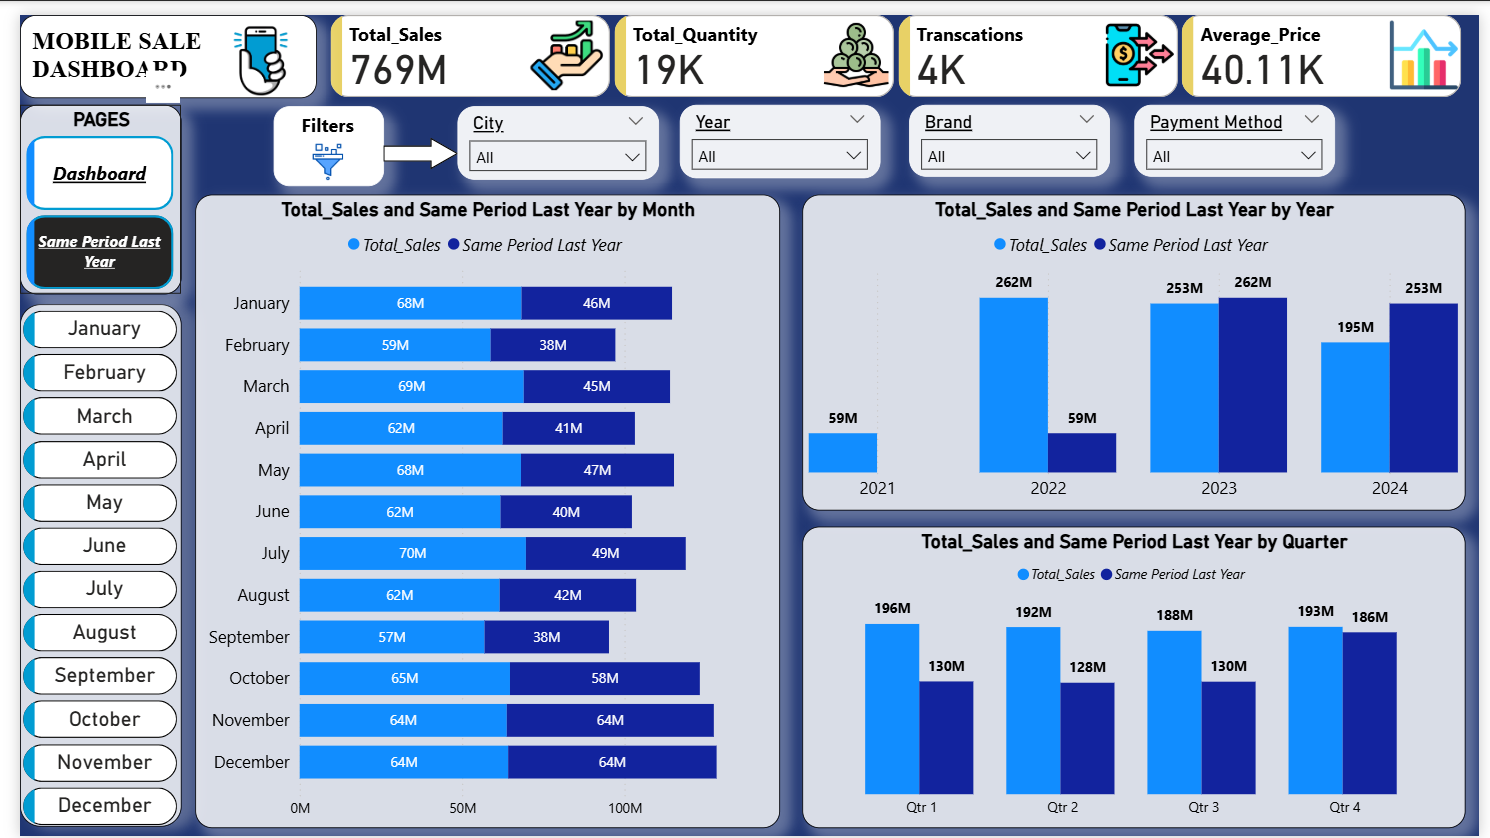

This screenshot's page, from the dashboard's own definition file:
{"tool":"powerbi","page":{"name":"Same Period Last Year","canvas":[1280,720],"ordinal":1},"visuals":[{"type":"shape","box":[222,79.4,97.1,70],"z":0},{"type":"advancedSlicerVisual","fields":{"Values":["Custom_Calendar.Date.Variation.Date Hierarchy.Month"]},"box":[0,254.3,141.4,458.6],"z":1000},{"type":"cardVisual","fields":{"Data":["Sales_Data.Total_Sales","Sales_Data.Total_Quantity","Sales_Data.Transcations","Sales_Data.Average_Price"]},"box":[272.9,0,994.3,72.9],"z":2000},{"type":"textbox","box":[0,0,260.7,72.9],"z":3000},{"type":"pageNavigator","title":"PAGES","box":[0,79.4,141.6,166.1],"z":4000},{"type":"image","box":[162.6,4.2,98.1,72.9],"z":5000},{"type":"clusteredColumnChart","fields":{"Category":["Custom_Calendar.Date.Variation.Date Hierarchy.Year","Custom_Calendar.Date.Variation.Date Hierarchy.Quarter","Custom_Calendar.Date.Variation.Date Hierarchy.Month"],"Y":["Sales_Data.Total_Sales","Sales_Data.Same Period Last Year"]},"box":[685.7,157.1,581.4,277.1],"z":6000},{"type":"clusteredColumnChart","fields":{"Category":["Custom_Calendar.Date.Variation.Date Hierarchy.Year","Custom_Calendar.Date.Variation.Date Hierarchy.Quarter","Custom_Calendar.Date.Variation.Date Hierarchy.Month"],"Y":["Sales_Data.Total_Sales","Sales_Data.Same Period Last Year"]},"box":[685.7,448.6,581.4,264.3],"z":7000},{"type":"barChart","fields":{"Category":["Custom_Calendar.Date.Variation.Date Hierarchy.Year","Custom_Calendar.Date.Variation.Date Hierarchy.Quarter","Custom_Calendar.Date.Variation.Date Hierarchy.Month"],"Y":["Sales_Data.Total_Sales","Sales_Data.Same Period Last Year"]},"box":[154.3,157.1,512.9,555.7],"z":8000},{"type":"slicer","fields":{"Values":["Sales_Data.Payment Method"]},"box":[976.9,79.4,175.8,63.5],"z":9000},{"type":"slicer","fields":{"Values":["Custom_Calendar.Date.Variation.Date Hierarchy.Year"]},"box":[578.8,79.4,175.8,64.7],"z":10000},{"type":"slicer","fields":{"Values":["Sales_Data.Brand"]},"box":[780.3,79.4,175.8,63.5],"z":11000},{"type":"image","box":[243.4,108,52.9,42.9],"z":12000},{"type":"shape","box":[318.2,107.9,65.9,28],"z":13000},{"type":"textbox","box":[226.3,79.4,87.1,35.7],"z":14000},{"type":"slicer","fields":{"Values":["Sales_Data.City"]},"box":[384,79.9,176.6,64.5],"z":15000}]}

Visuals, with their boxes in screenshot pixels (x1, y1, x2, y2), scaled from the page's 1280x720 canvas onto the 1490x838 screenshot:
shape: select_region(258, 92, 371, 174)
advancedSlicerVisual - Custom_Calendar.Date.Variation.Date Hierarchy.Month: select_region(0, 296, 165, 830)
cardVisual - Sales_Data.Total_Sales x Sales_Data.Total_Quantity: select_region(318, 0, 1475, 85)
textbox: select_region(0, 0, 303, 85)
"PAGES" pageNavigator: select_region(0, 92, 165, 286)
image: select_region(189, 5, 303, 90)
clusteredColumnChart - Custom_Calendar.Date.Variation.Date Hierarchy.Year x Custom_Calendar.Date.Variation.Date Hierarchy.Quarter: select_region(798, 183, 1475, 505)
clusteredColumnChart - Custom_Calendar.Date.Variation.Date Hierarchy.Year x Custom_Calendar.Date.Variation.Date Hierarchy.Quarter: select_region(798, 522, 1475, 830)
barChart - Custom_Calendar.Date.Variation.Date Hierarchy.Year x Custom_Calendar.Date.Variation.Date Hierarchy.Quarter: select_region(180, 183, 777, 830)
slicer - Sales_Data.Payment Method: select_region(1137, 92, 1342, 166)
slicer - Custom_Calendar.Date.Variation.Date Hierarchy.Year: select_region(674, 92, 878, 168)
slicer - Sales_Data.Brand: select_region(908, 92, 1113, 166)
image: select_region(283, 126, 345, 176)
shape: select_region(370, 126, 447, 158)
textbox: select_region(263, 92, 365, 134)
slicer - Sales_Data.City: select_region(447, 93, 653, 168)
